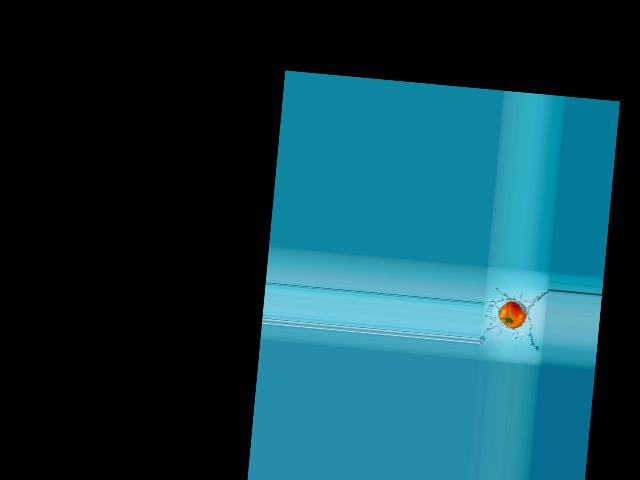tomato: (497, 299, 527, 329)
